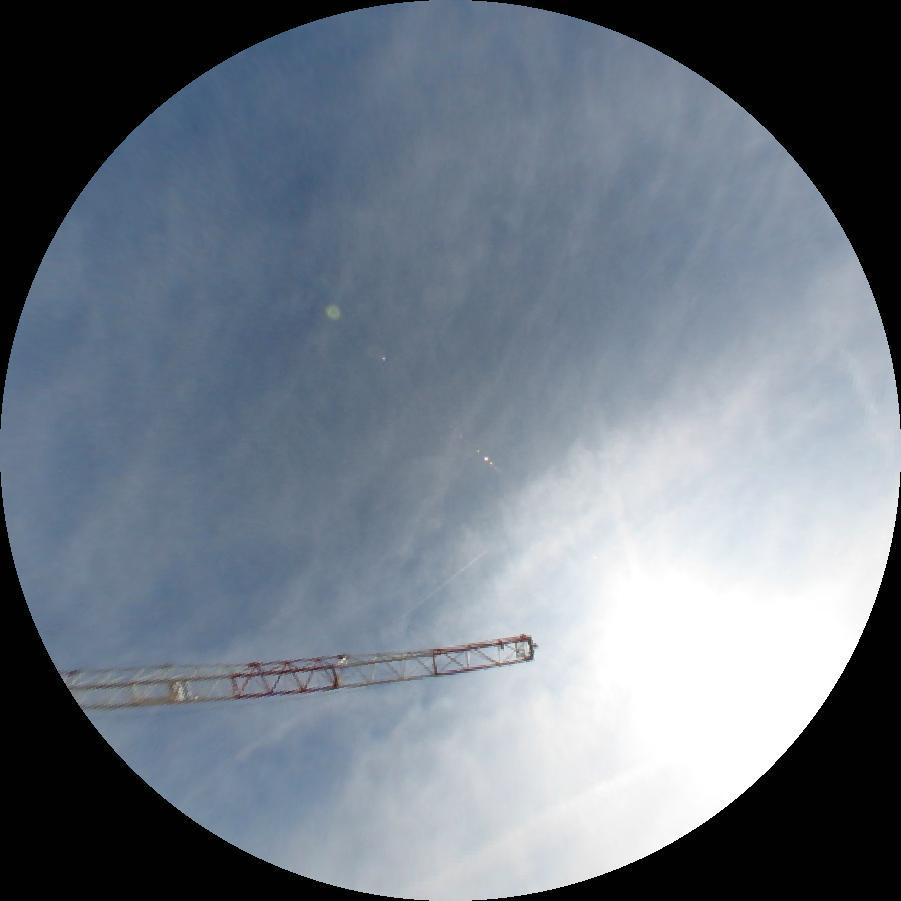contrail young: (375, 548, 490, 637)
